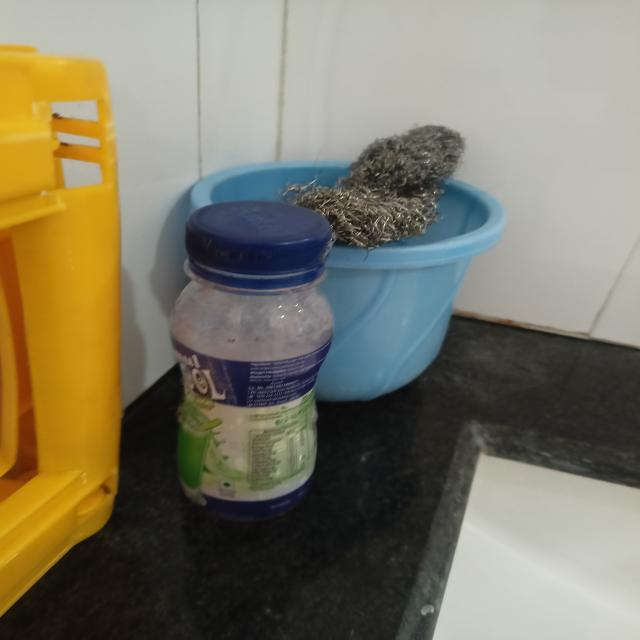plastic_bottle: (165, 200, 342, 523)
